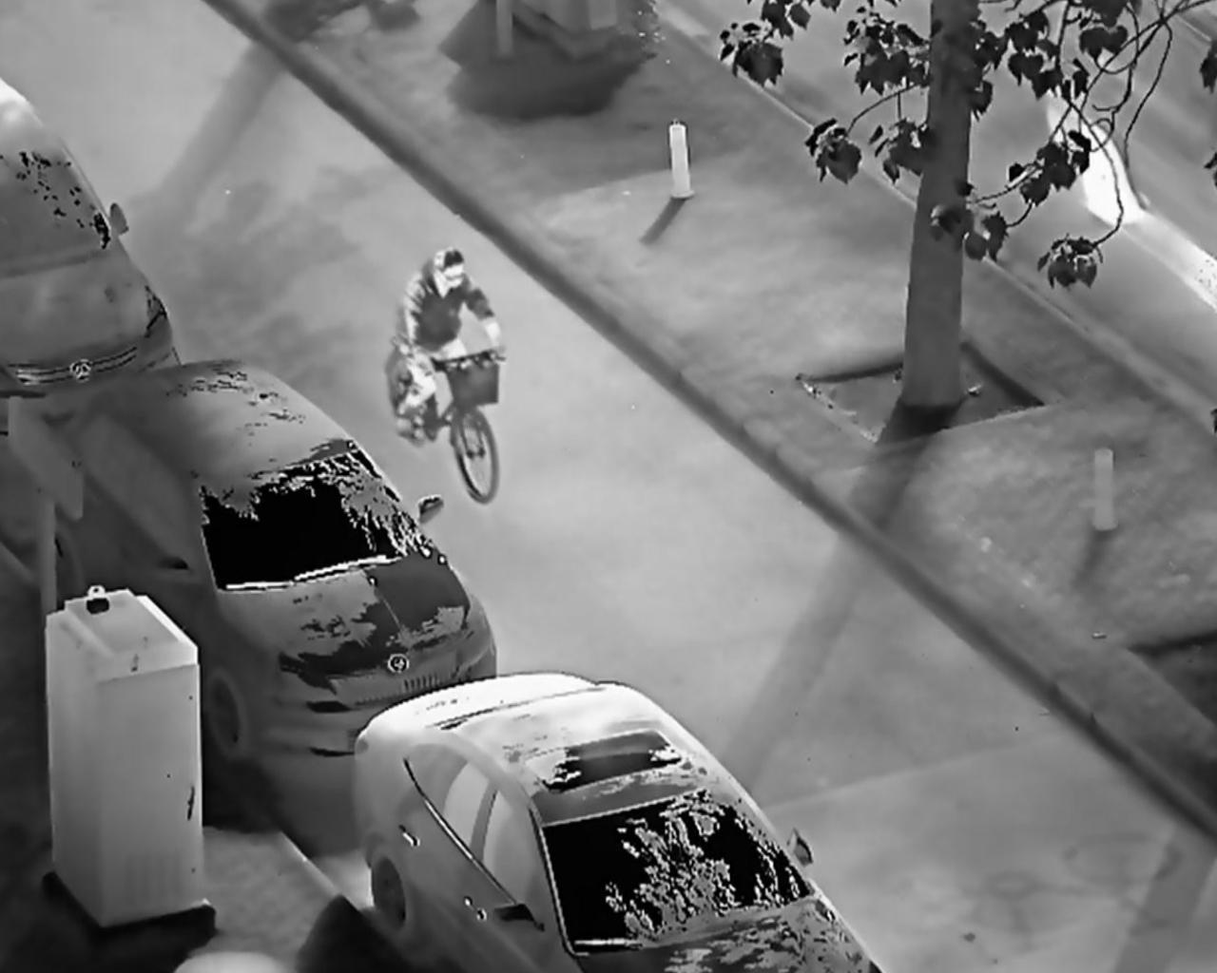person: (399, 242, 508, 439)
